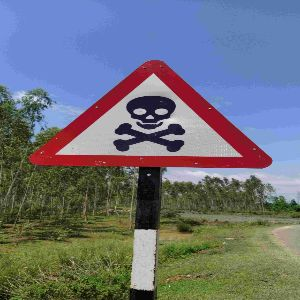Accident prone area: (18, 50, 282, 184)
